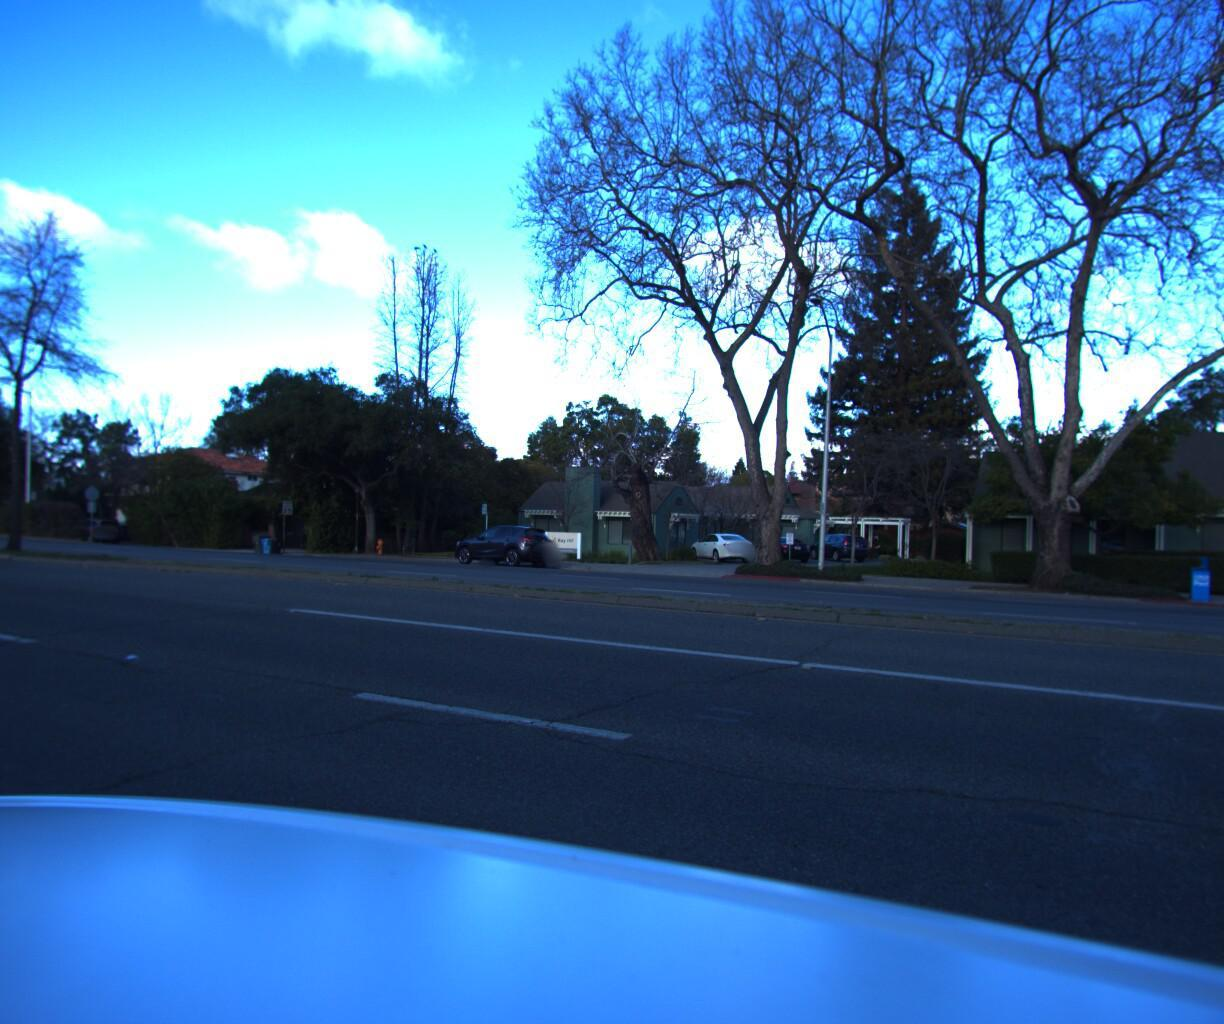car: (443, 518, 559, 567)
